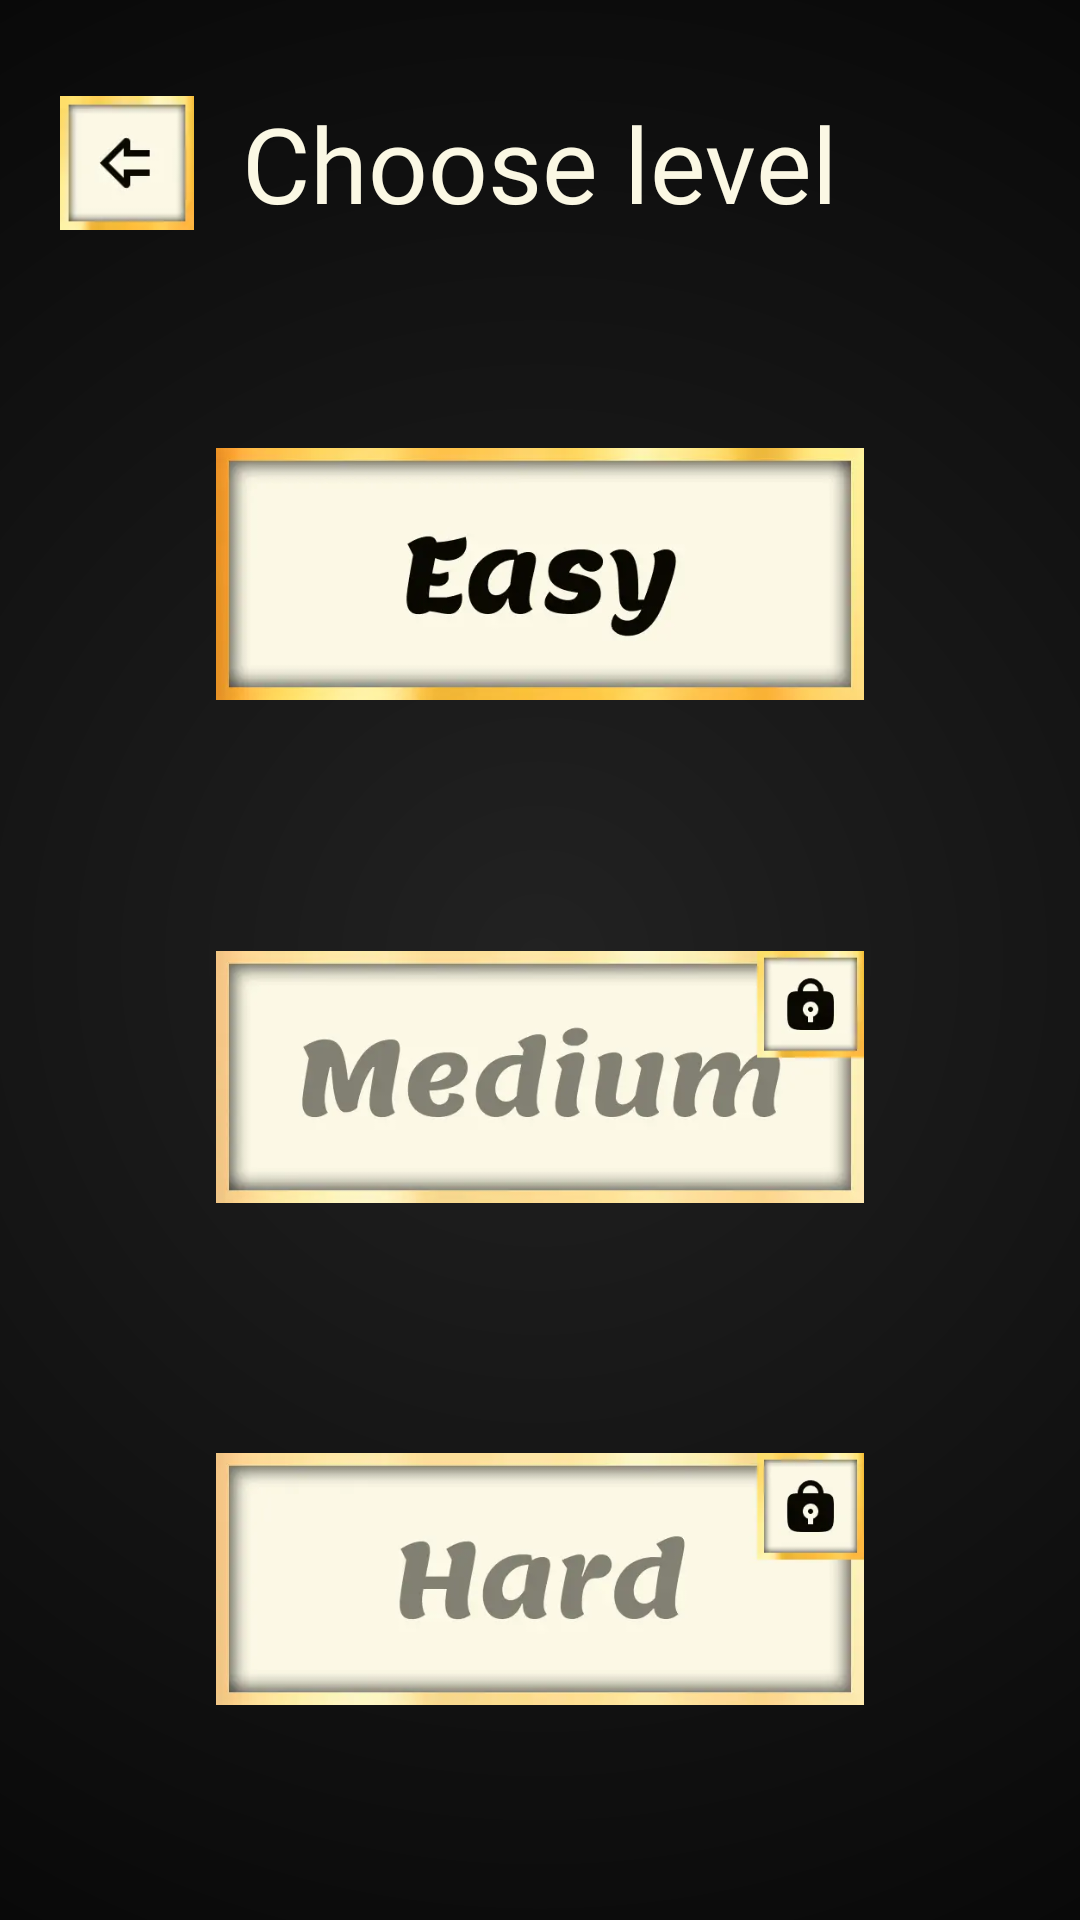

Where to tap for icons on this 1080×1920 app screen, as [x,y]:
back: [127,163]
